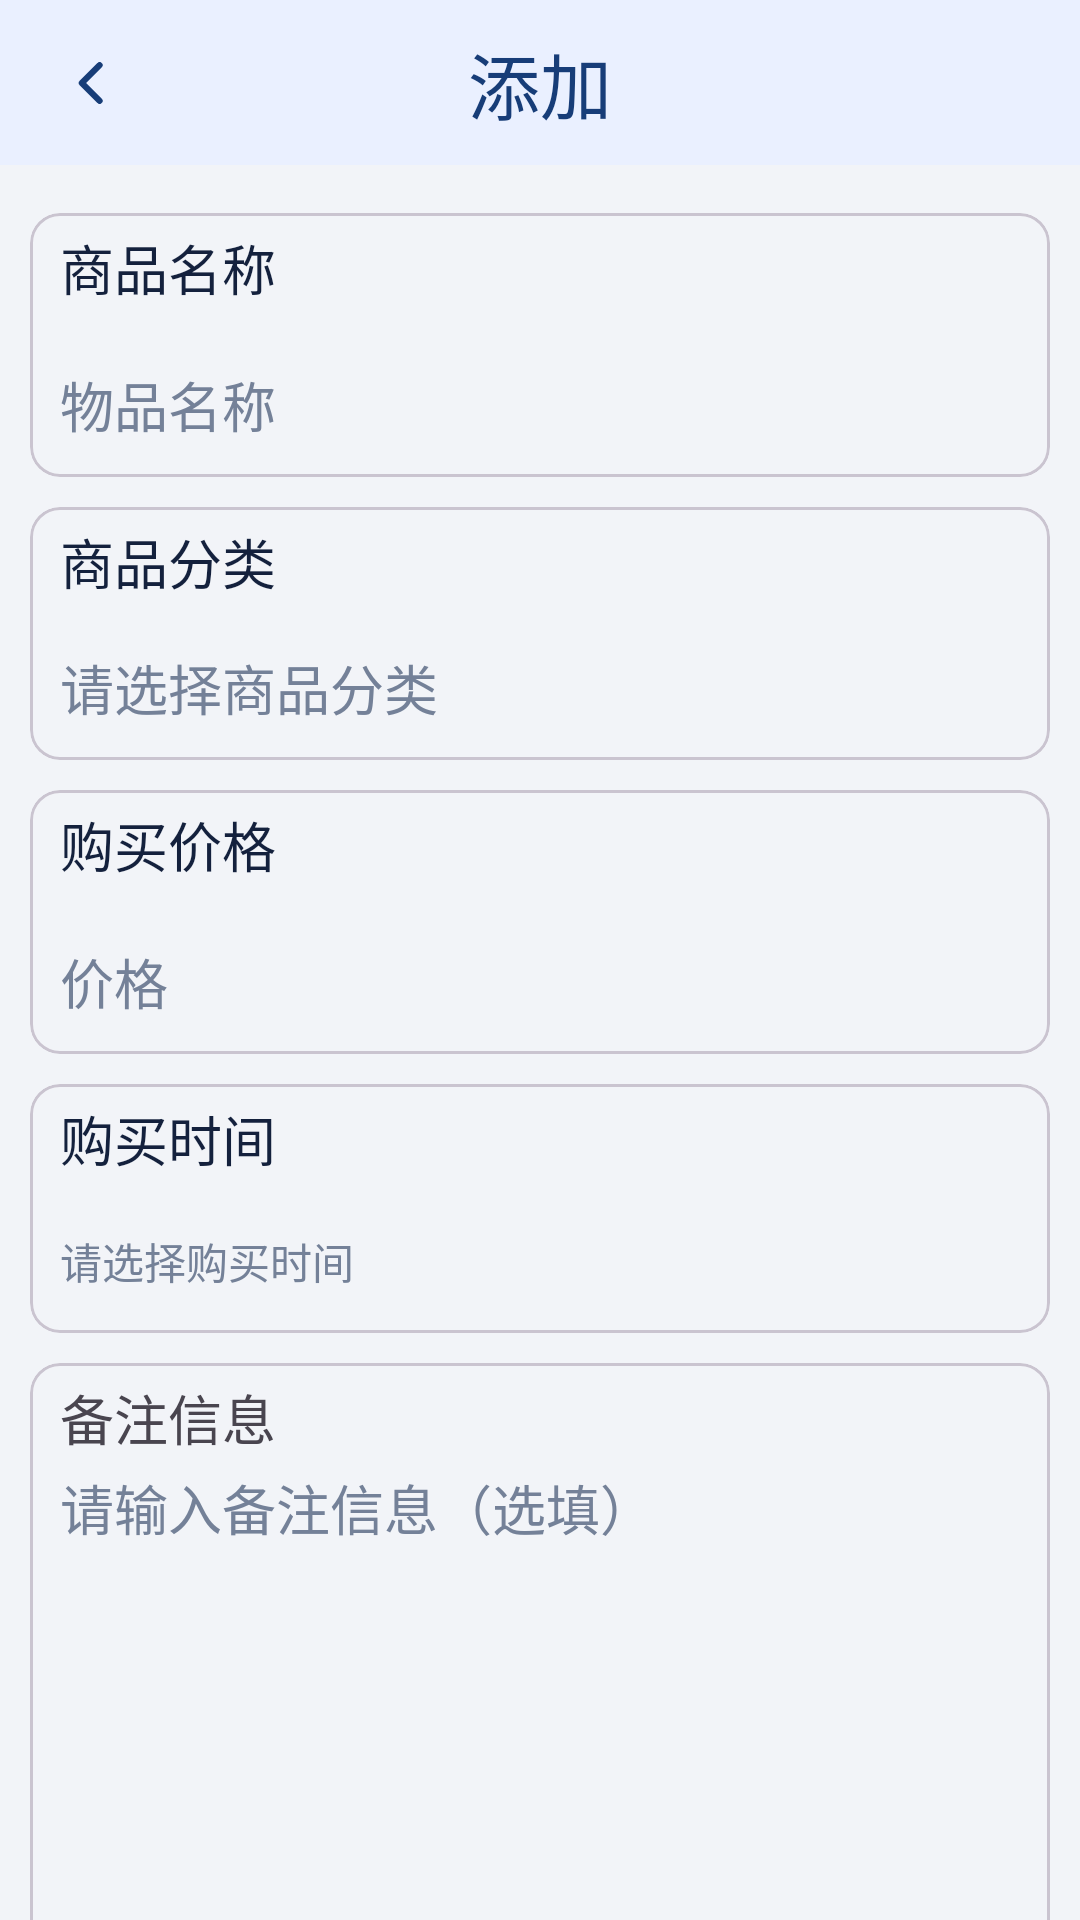

Icon bounding boxes for this 1080w x 1920h phone screenshot, format (left=x1, top=y1, right=x2, bottom=y2):
返回: (left=78, top=62, right=103, bottom=104)
